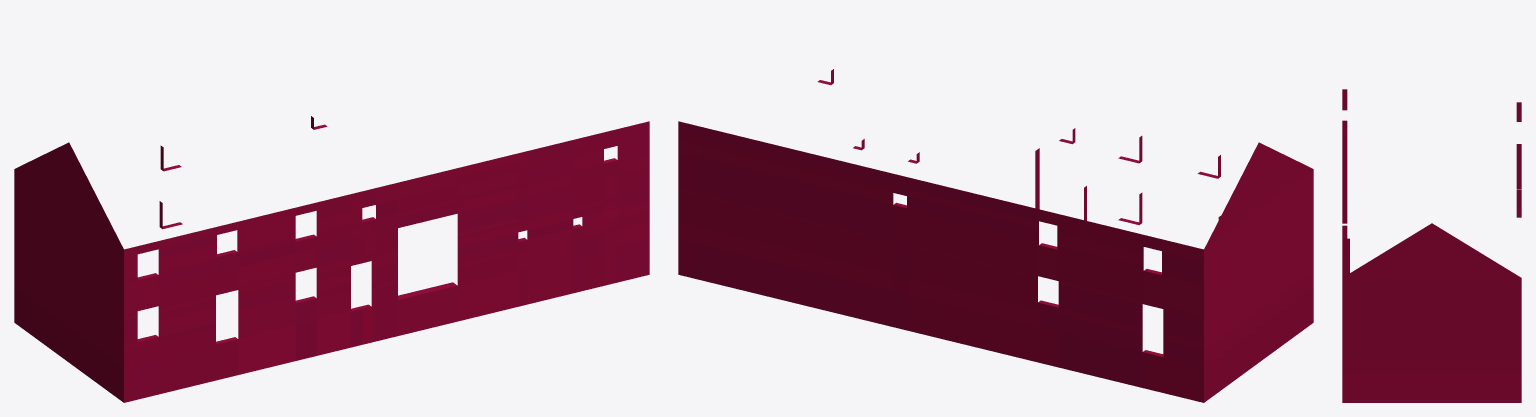
The model's file is SM_Bld_060_Masonry.glb.
3 renders of one model, left to right at view 1: azimuth 30°, elevation 25°; view 2: azimuth 150°, elevation 25°; view 3: azimuth 270°, elevation 25°, orthographic. The views are drawn at different scales.
Visible parts, largest first — view 1: SM_Bld_060_Masonry; view 2: SM_Bld_060_Masonry; view 3: SM_Bld_060_Masonry.
Boxes of the visible parts, left/top/right/bottom form: SM_Bld_060_Masonry: left=14, top=116, right=649, bottom=402; SM_Bld_060_Masonry: left=678, top=69, right=1313, bottom=402; SM_Bld_060_Masonry: left=1342, top=89, right=1521, bottom=402.
Size of the model in its own units: 22.94 by 9.2 by 8.3.
